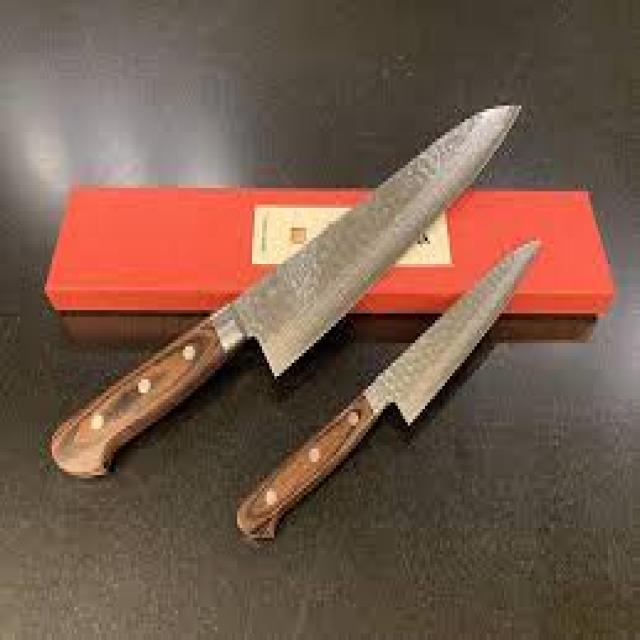knives: (56, 107, 521, 472)
